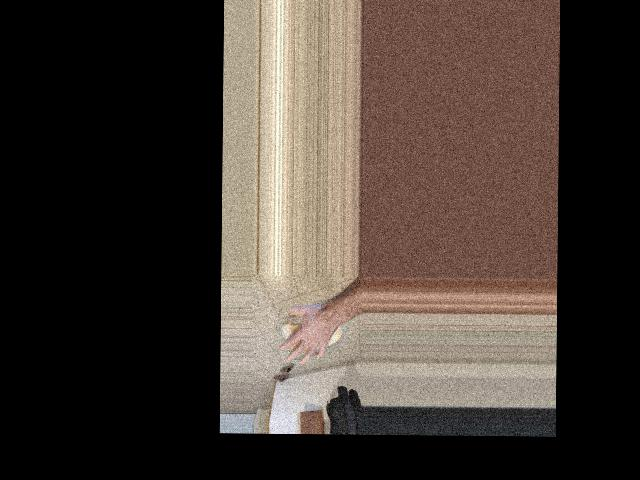cheese: (278, 299, 344, 364)
